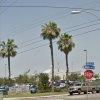Palm tree: (35, 14, 76, 71)
